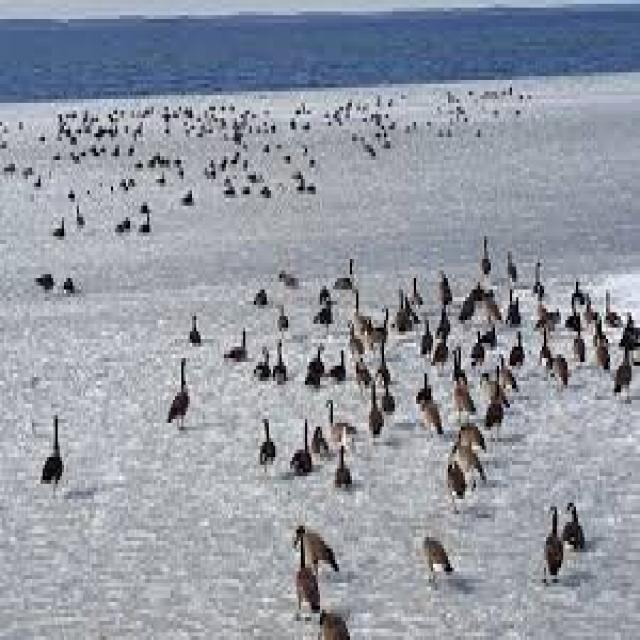bird: (23, 411, 92, 522), (290, 526, 335, 621), (409, 520, 472, 585), (160, 352, 203, 440), (410, 362, 450, 442), (243, 408, 282, 488), (279, 417, 320, 478), (220, 328, 258, 392), (546, 484, 568, 583), (322, 390, 359, 448), (468, 215, 496, 288), (352, 293, 382, 339), (535, 326, 557, 380), (334, 252, 359, 294), (502, 250, 520, 296)
